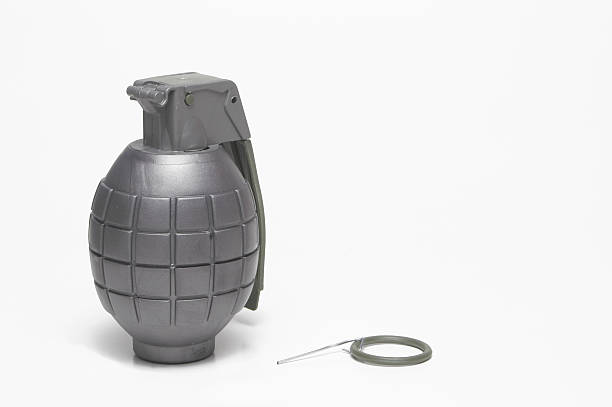e1: (89, 73, 270, 370)
